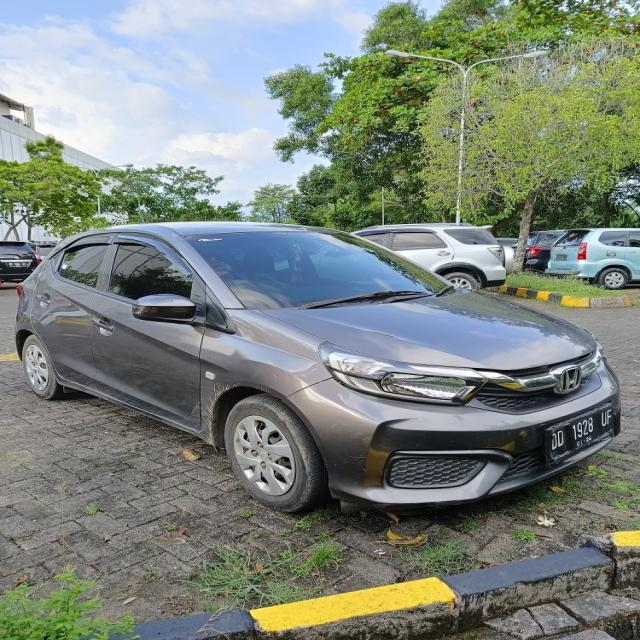plates: (542, 402, 636, 468)
